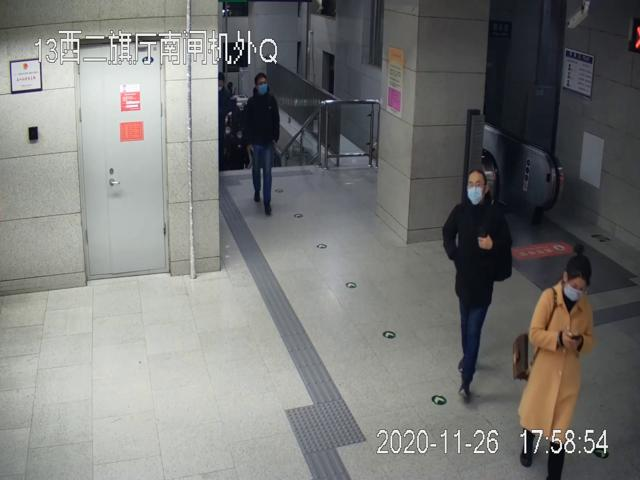person: (517, 252, 595, 480), (442, 168, 513, 398), (243, 73, 280, 218)
